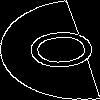O: (25, 25, 100, 73)
